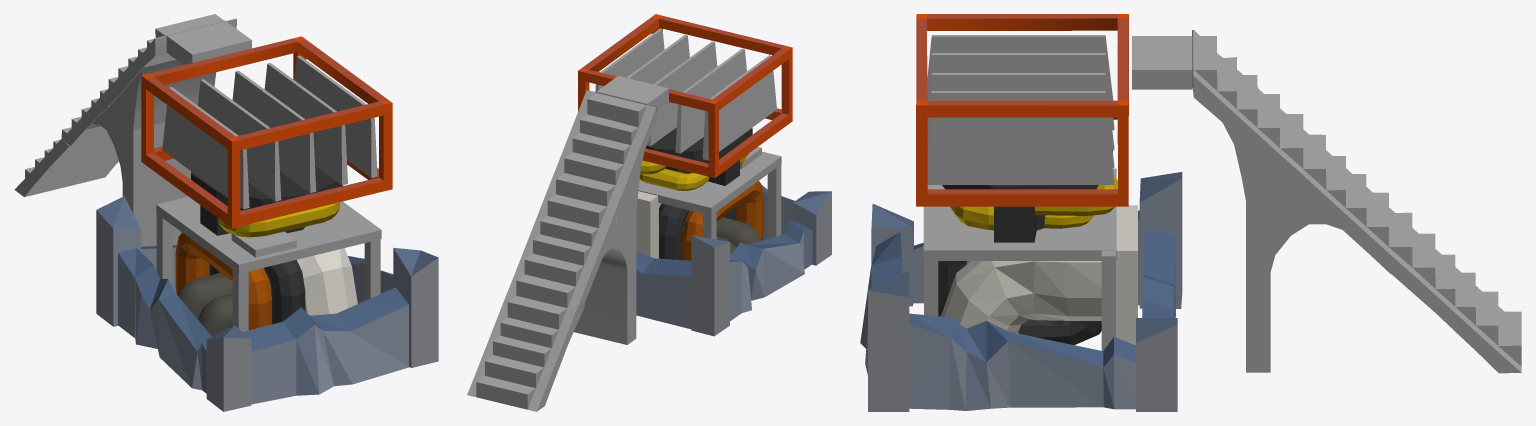
File: machine kleur.fbx
The picture shows the model from 3 angles, left to right: view 1: azimuth 30°, elevation 25°; view 2: azimuth 150°, elevation 25°; view 3: azimuth 270°, elevation 25°; orthographic projection. The views are drawn at different scales.
Visible parts, largest first — view 1: polySurface13, pasted__pasted__group19_pasted__group18_pasted__pasted__grou, polySurface8, pCube1, pCube5, pasted__pCube7, pasted__pCube8, pasted__pCube6, pasted__pCube5, pasted__pasted__pCylinder1, group5_pasted__pCylinder1, pCube10 (+10 smaller); view 2: polySurface8, polySurface13, pasted__pasted__group19_pasted__group18_pasted__pasted__grou, pCube1, pCube5, pasted__pCube6, pasted__pCube7, group5_pasted__pCylinder1, pasted__group5_pasted__pCylinder1, pCube3, pasted__pCube8, pCube10 (+7 smaller); view 3: polySurface13, polySurface8, pasted__pasted__group19_pasted__group18_pasted__pasted__grou, pasted__pCube5, pasted__pasted__pCylinder1, pCube1, pasted__pCube6, pCube5, pasted__pCube7, pCube10, pCube3, pasted__group5_pasted__pCylinder1 (+7 smaller).
Part boxes in pixels (<box>): polySurface13: <box>96,196,438,411</box>; pasted__pasted__group19_pasted__group18_pasted__pasted__grou: <box>141,36,392,228</box>; polySurface8: <box>14,14,236,246</box>; pCube1: <box>156,196,381,273</box>; pCube5: <box>162,87,249,209</box>; pasted__pCube7: <box>232,70,316,193</box>; pasted__pCube8: <box>264,63,347,185</box>; pasted__pCube6: <box>198,79,281,201</box>; pasted__pCube5: <box>294,55,377,178</box>; pasted__pasted__pCylinder1: <box>297,248,357,315</box>; group5_pasted__pCylinder1: <box>175,232,271,330</box>; pCube10: <box>166,21,251,64</box>; polySurface8: <box>467,90,656,411</box>; polySurface13: <box>636,185,831,336</box>; pasted__pasted__group19_pasted__group18_pasted__pasted__grou: <box>578,14,792,177</box>; pCube1: <box>638,151,781,215</box>; pCube5: <box>702,55,776,160</box>; pasted__pCube6: <box>675,48,746,153</box>; pasted__pCube7: <box>647,41,717,146</box>; group5_pasted__pCylinder1: <box>682,181,764,260</box>; pasted__group5_pasted__pCylinder1: <box>659,203,735,259</box>; pCube3: <box>636,191,658,258</box>; pasted__pCube8: <box>626,34,689,84</box>; pCube10: <box>597,76,668,111</box>; polySurface13: <box>860,172,1182,411</box>; polySurface8: <box>1192,30,1521,373</box>; pasted__pasted__group19_pasted__group18_pasted__pasted__grou: <box>916,14,1128,206</box>; pasted__pCube5: <box>927,117,1114,184</box>; pasted__pasted__pCylinder1: <box>941,261,1116,333</box>; pCube1: <box>923,168,1116,260</box>; pasted__pCube6: <box>927,53,1114,130</box>; pCube5: <box>927,35,1113,100</box>; pasted__pCube7: <box>927,73,1114,150</box>; pCube10: <box>1132,36,1192,89</box>; pCube3: <box>1116,205,1137,345</box>; pasted__group5_pasted__pCylinder1: <box>938,261,1101,345</box>.
Size of the model in its own units: 12.18 by 14.09 by 28.
